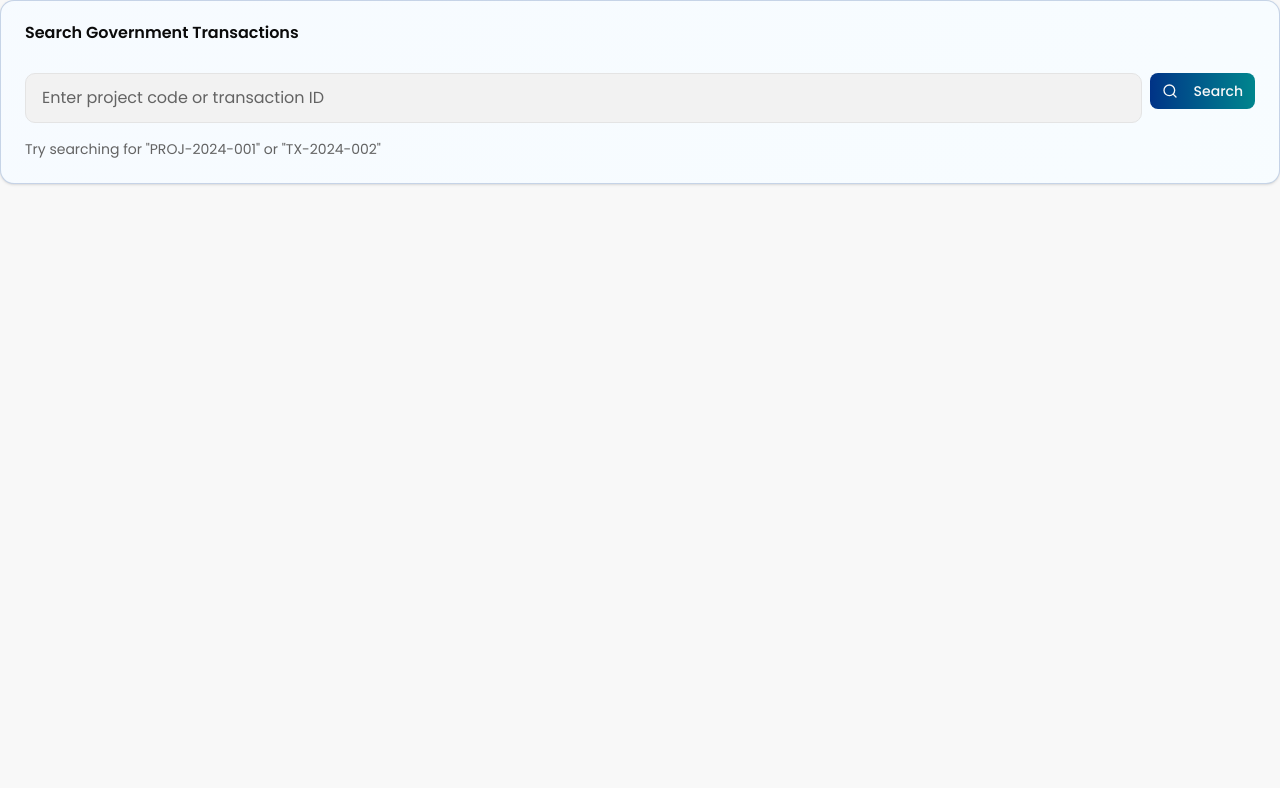
UI Components › Component Integration › should handle complete verification workflow
Type "TEST-001" into the field with placeholder "Enter project code or transaction ID".
click(583, 98); type("TEST-001")  # box left=25, top=73, right=1142, bottom=123
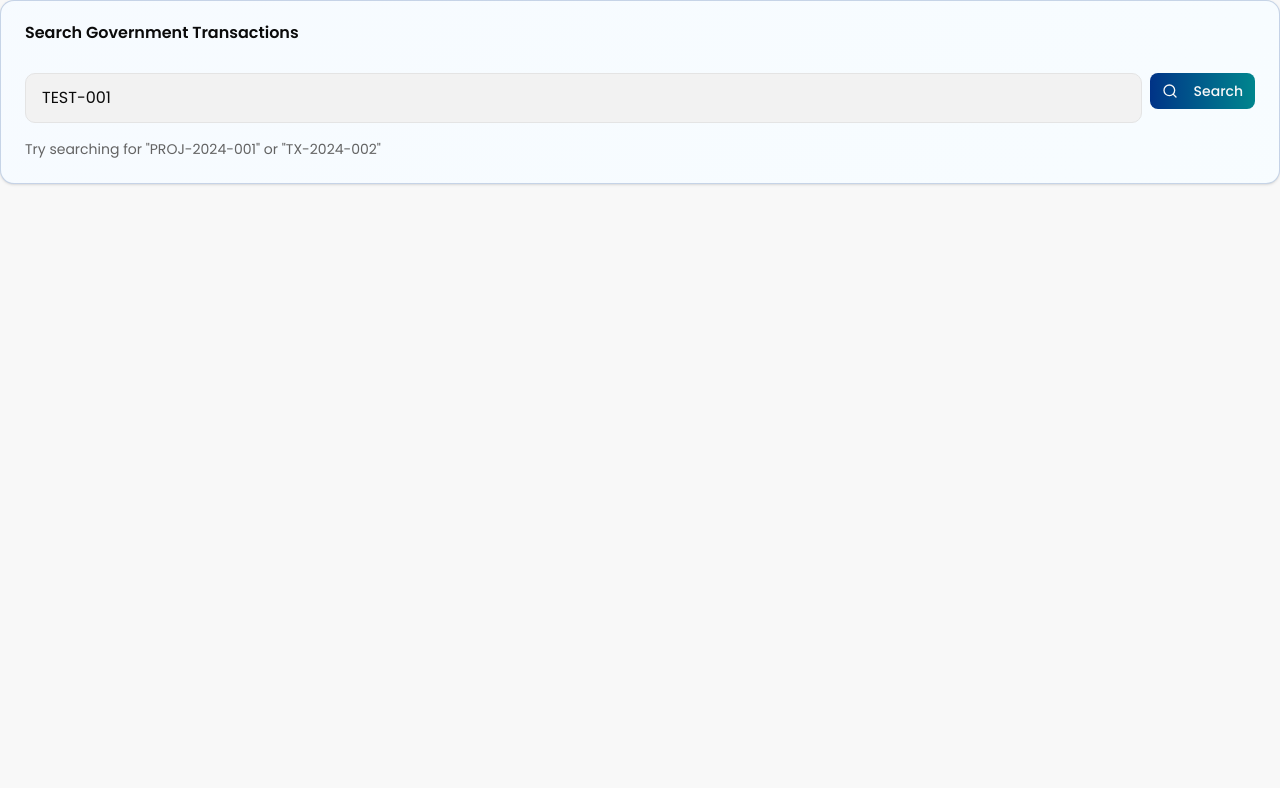
Click the button "Search".
click(1202, 91)  # box left=1150, top=73, right=1255, bottom=109
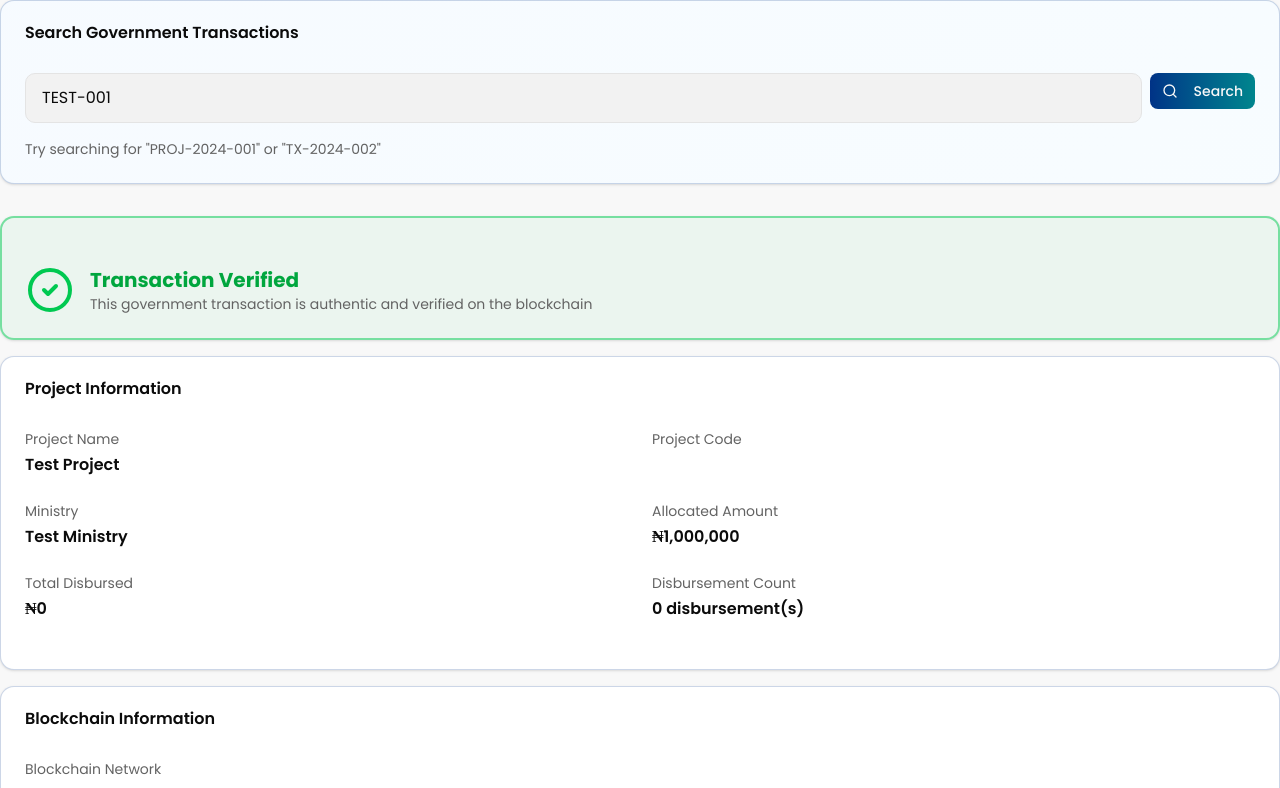
Expected: the heading "Transaction Verified" is shown, left=90, top=266, right=299, bottom=294
Expected: the text "Test Project" is shown, left=25, top=453, right=119, bottom=476
Expected: the text "Test Ministry" is shown, left=25, top=525, right=128, bottom=548
